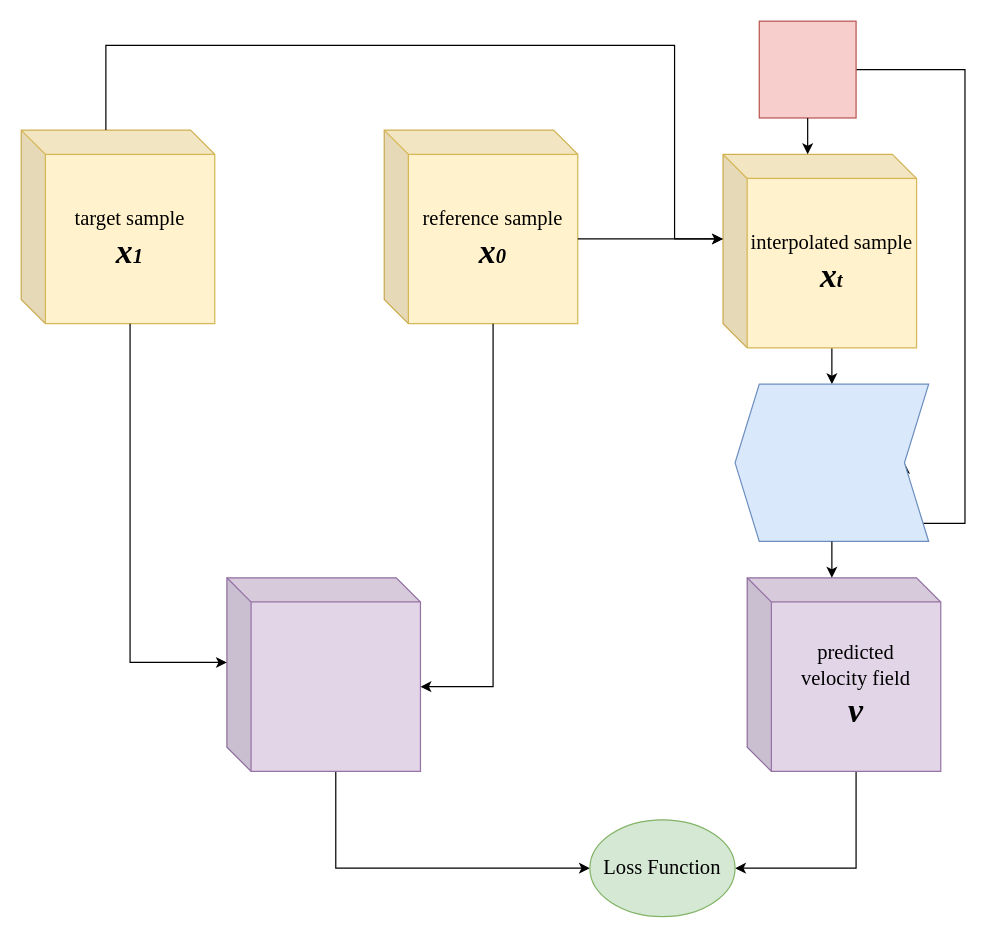
The diagram is 996 pixels wide and 938 high, and some of its shapes have lost their labels. Here are the shapes that lost their labels. From the top down, the centre of each, then its label:
At [807,69]: "timepoint t".
At [831,462]: "UNet".
At [323,674]: "target velocity field u".
